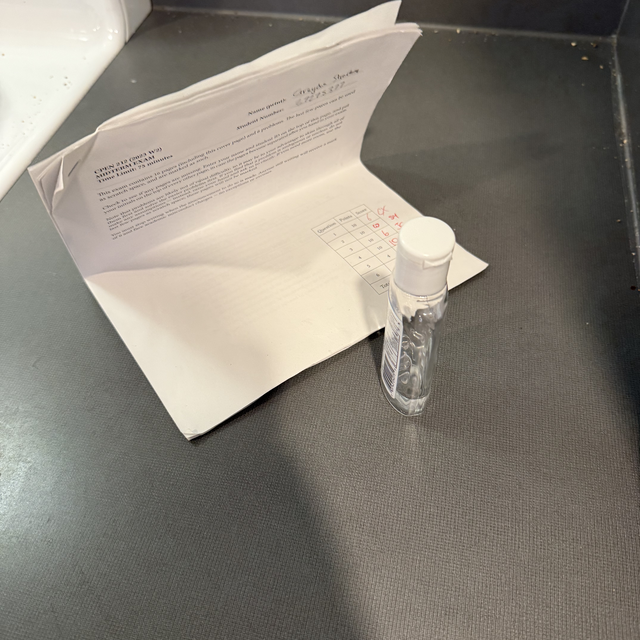Paper: (46, 39, 418, 392)
Sanitizer: (324, 214, 505, 427)
